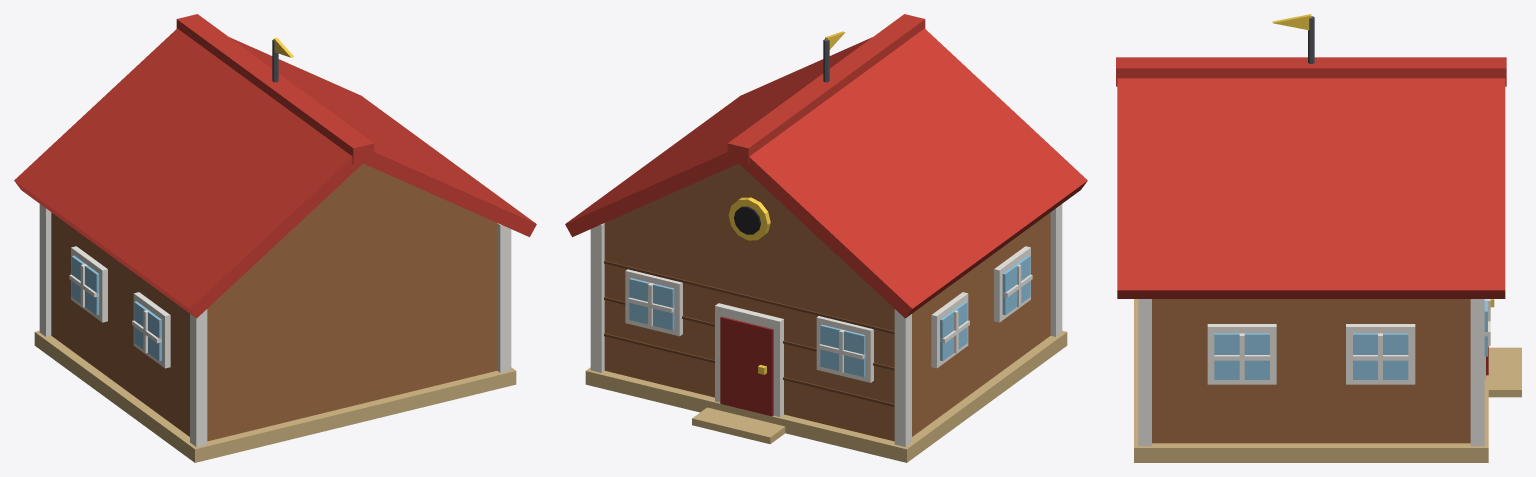
File: HenHouse.fbx
3 renders of one model, left to right at view 1: azimuth 30°, elevation 25°; view 2: azimuth 150°, elevation 25°; view 3: azimuth 270°, elevation 25°, orthographic. The views are drawn at different scales.
Visible parts, largest first — view 1: HenHouse; view 2: HenHouse; view 3: HenHouse.
Boxes of the visible parts, box(x1,y1,x2,y2) form: HenHouse: box(14, 14, 536, 462); HenHouse: box(565, 14, 1087, 462); HenHouse: box(1116, 14, 1521, 462).
Bounding box in the file's own units: 448 × 403 × 410.
